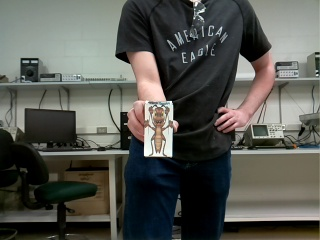Angry: (144, 104, 173, 157)
